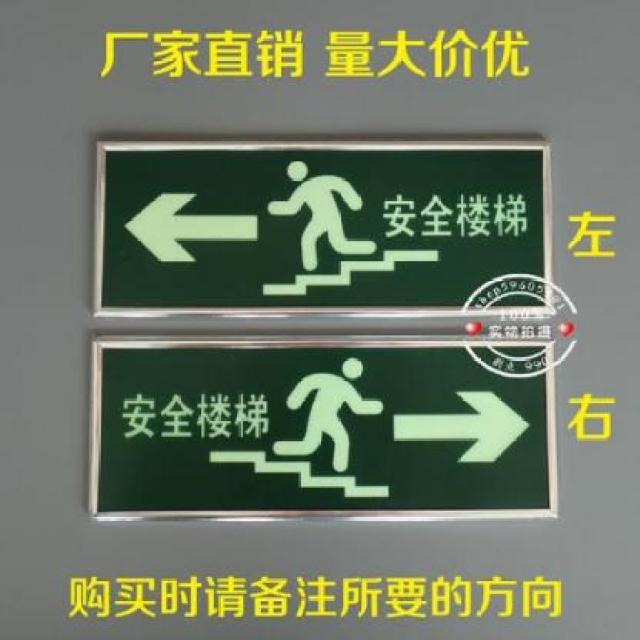exit_sign: (83, 338, 565, 531), (85, 137, 556, 316)
